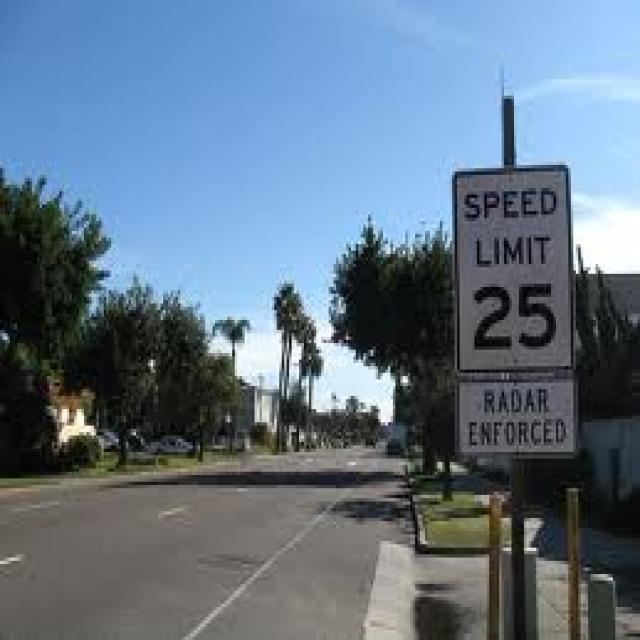regulatory: (447, 154, 579, 382), (452, 374, 581, 465)
